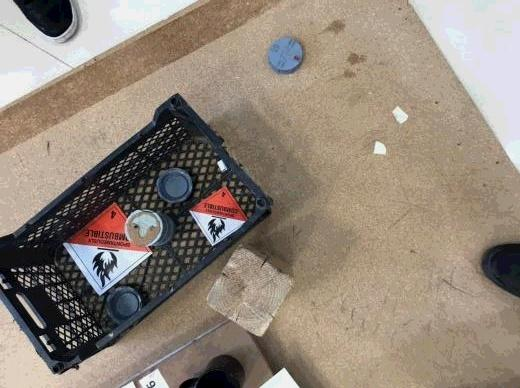spontaneously-combustible: (66, 202, 151, 290), (190, 185, 247, 245)
